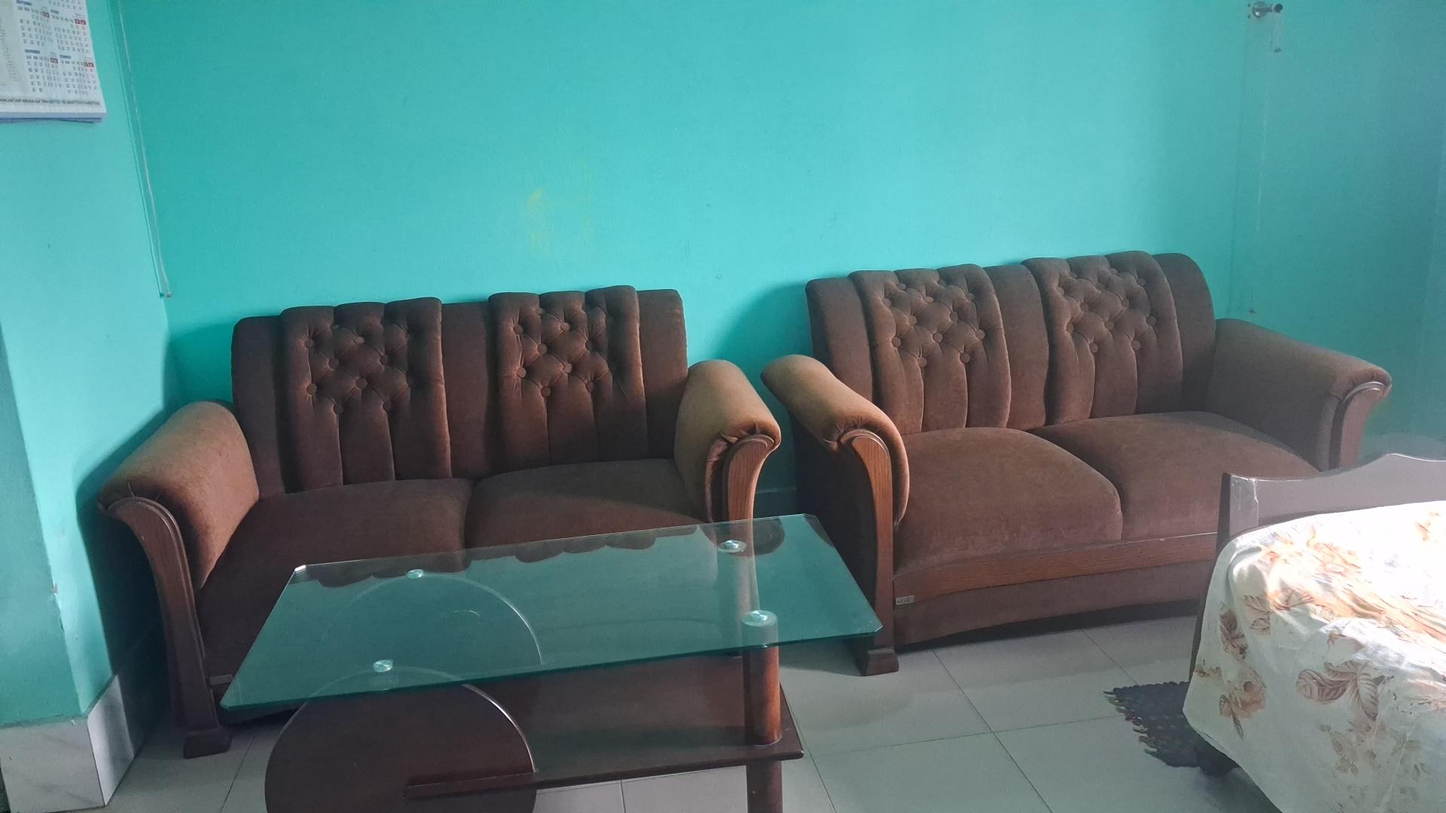Table: (219, 509, 883, 813)
